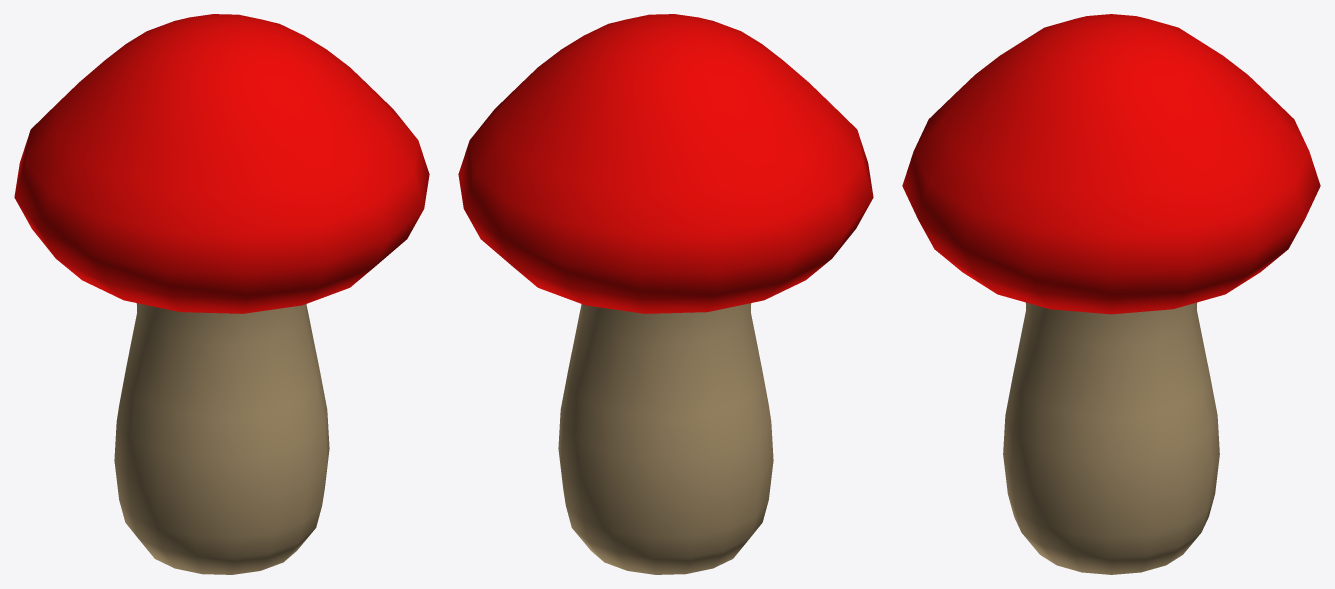
The model's file is Mushroom.fbx.
3 renders of one model, left to right at view 1: azimuth 30°, elevation 25°; view 2: azimuth 150°, elevation 25°; view 3: azimuth 270°, elevation 25°, orthographic.
Parts seen in each view (by area): view 1: Toadstool; view 2: Toadstool; view 3: Toadstool.
Part boxes in pixels (<box>): Toadstool: <box>14,14,429,574</box>; Toadstool: <box>458,14,873,574</box>; Toadstool: <box>902,14,1320,574</box>.
Size of the model in its own units: 6.22 by 8.41 by 6.22.
